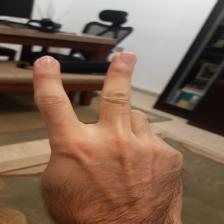two: (31, 49, 186, 211)
